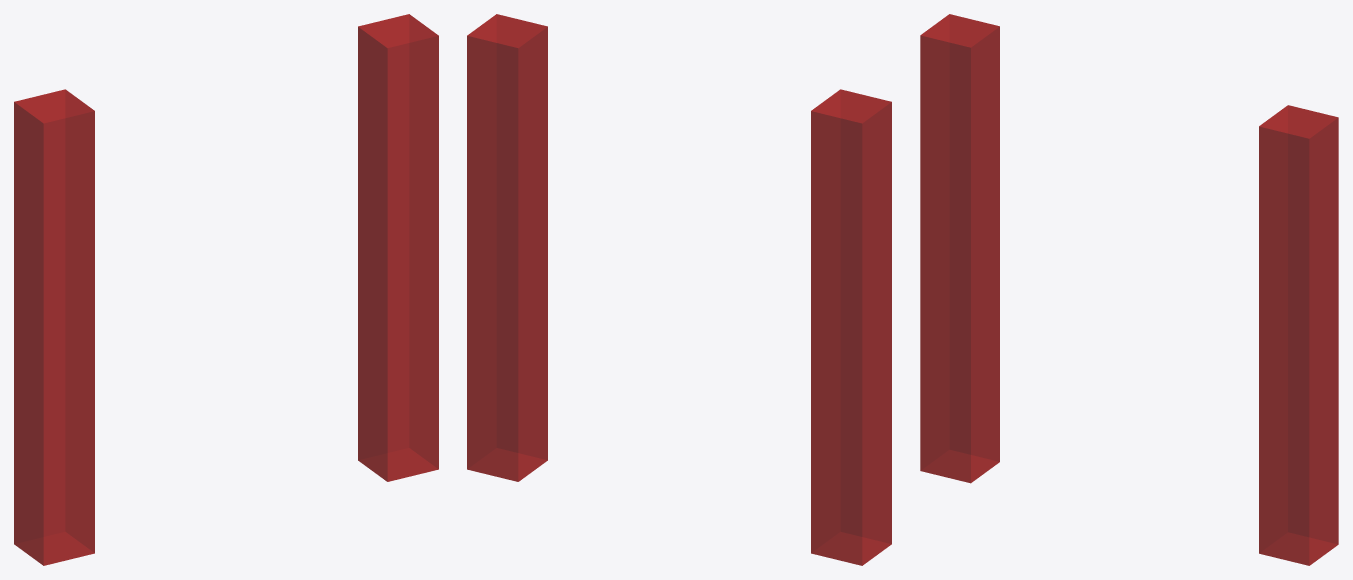
Rendered from SM_Prop_Meadow_Fence_Gate_Set_02_Collision.fbx.
The picture shows the model from 3 angles, left to right: view 1: azimuth 30°, elevation 25°; view 2: azimuth 150°, elevation 25°; view 3: azimuth 330°, elevation 25°; orthographic projection.
Visible parts, largest first — view 1: SM_Prop_Meadow_Fence_Gate_Set_02_Collision; view 2: SM_Prop_Meadow_Fence_Gate_Set_02_Collision; view 3: SM_Prop_Meadow_Fence_Gate_Set_02_Collision.
Part boxes in pixels (box(x1,y1,x2,y2)): SM_Prop_Meadow_Fence_Gate_Set_02_Collision: box(14, 14, 438, 565); SM_Prop_Meadow_Fence_Gate_Set_02_Collision: box(467, 14, 891, 565); SM_Prop_Meadow_Fence_Gate_Set_02_Collision: box(920, 14, 1338, 565).
Bounding box in the file's own units: 143 × 153 × 18.6.
